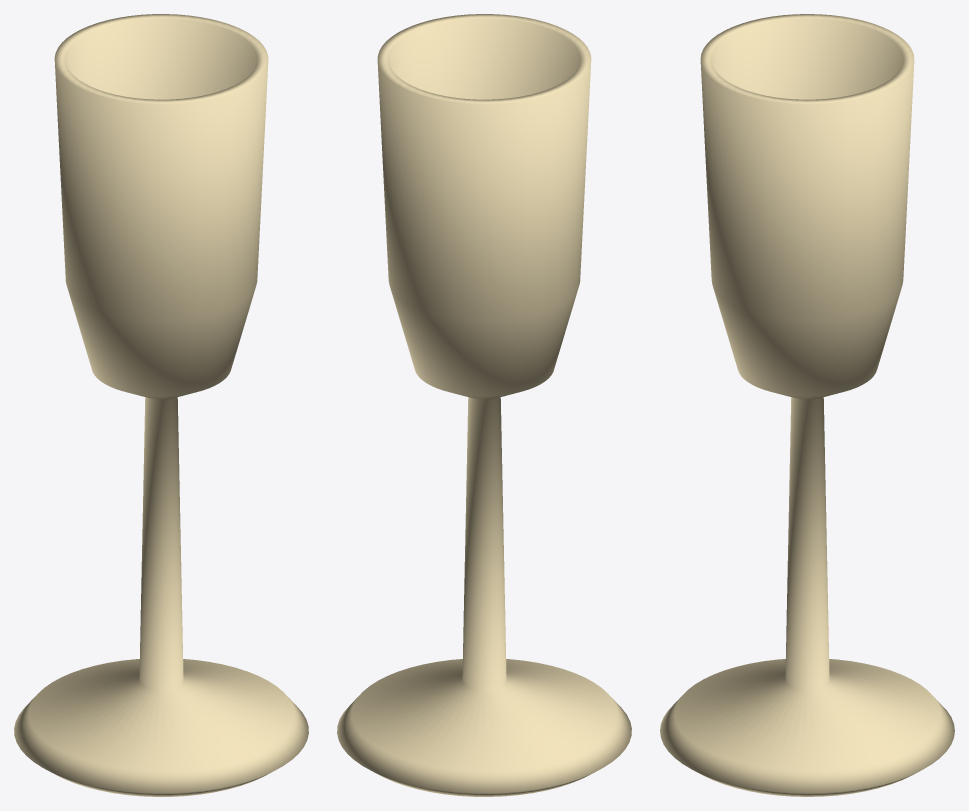
The model's file is champagne-flute.glb.
3 renders of one model, left to right at view 1: azimuth 30°, elevation 25°; view 2: azimuth 150°, elevation 25°; view 3: azimuth 270°, elevation 25°, orthographic.
Visible parts, largest first — view 1: flute-0; view 2: flute-0; view 3: flute-0.
Part boxes in pixels (left/top/right/bottom): flute-0: left=14, top=14, right=308, bottom=796; flute-0: left=337, top=14, right=631, bottom=796; flute-0: left=660, top=14, right=954, bottom=796.
Size of the model in its own units: 0.4 by 1.02 by 0.4.
